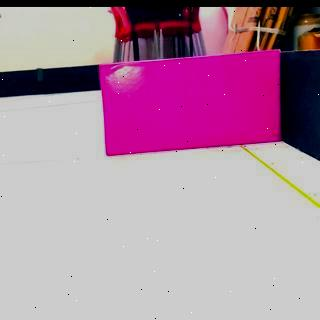xparking: (103, 63, 280, 144)
